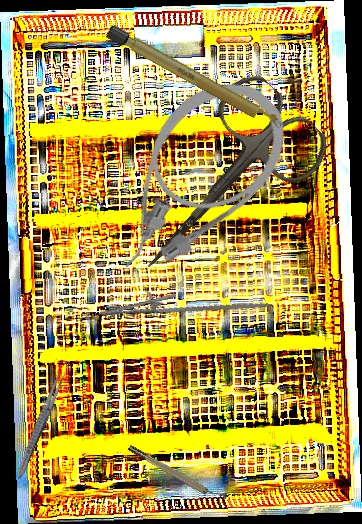Cannula: (72, 58, 309, 295)
Dressing Forceps: (13, 367, 68, 481)
Fixation Ring: (126, 439, 228, 508)
Iris Scissors: (102, 65, 339, 307)
Needle Holder: (95, 269, 270, 337)
Scalpel Handle: (104, 23, 287, 135)
